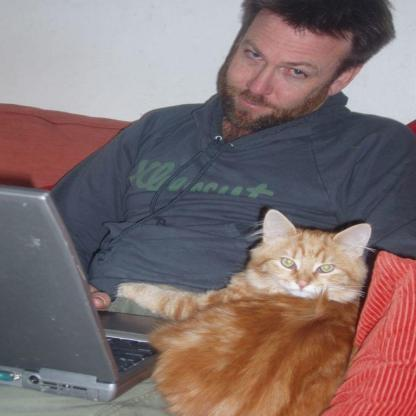board: (0, 186, 159, 402)
